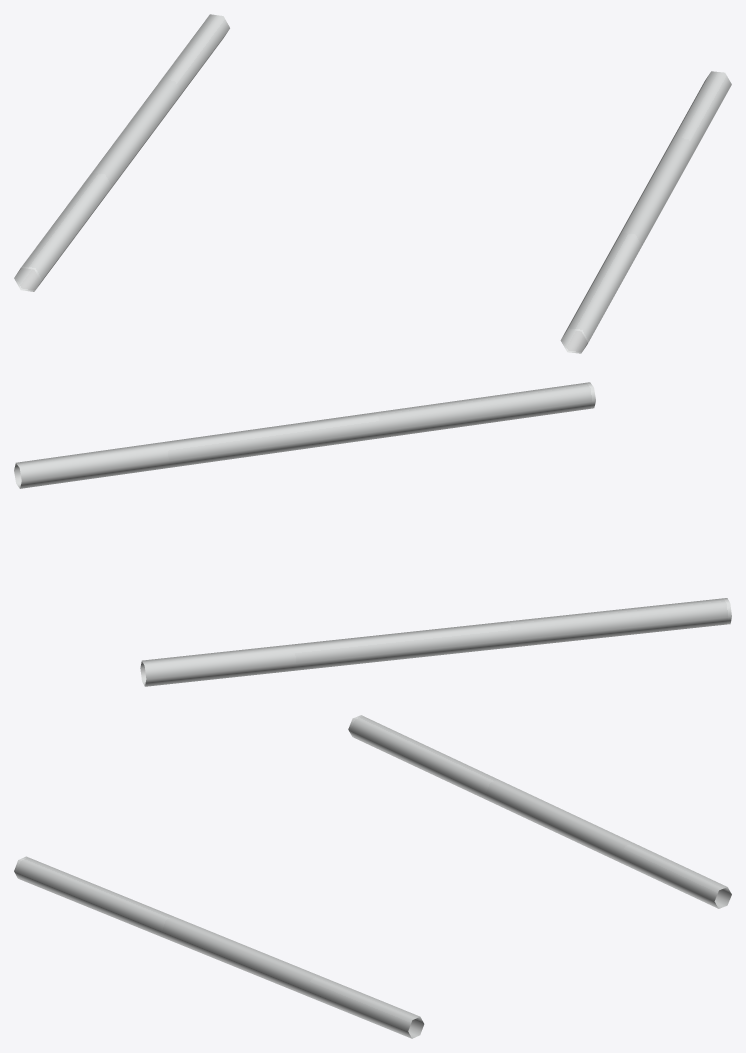
File: nycsignalarm_diagonal12_c4.obj
3 renders of one model, top to bottom at view 1: azimuth 30°, elevation 25°; view 2: azimuth 150°, elevation 25°; view 3: azimuth 270°, elevation 25°, orthographic. The views are drawn at different scales.
Parts seen in each view (by area): view 1: nycsignalarm_diagonal12_c4; view 2: nycsignalarm_diagonal12_c4; view 3: nycsignalarm_diagonal12_c4.
Part boxes in pixels (x1,y1,x2,y2): nycsignalarm_diagonal12_c4: (14,14,731,353); nycsignalarm_diagonal12_c4: (14,382,731,686); nycsignalarm_diagonal12_c4: (14,715,731,1038).
Bounding box in the file's own units: 1.89 × 0.0696 × 1.89.
